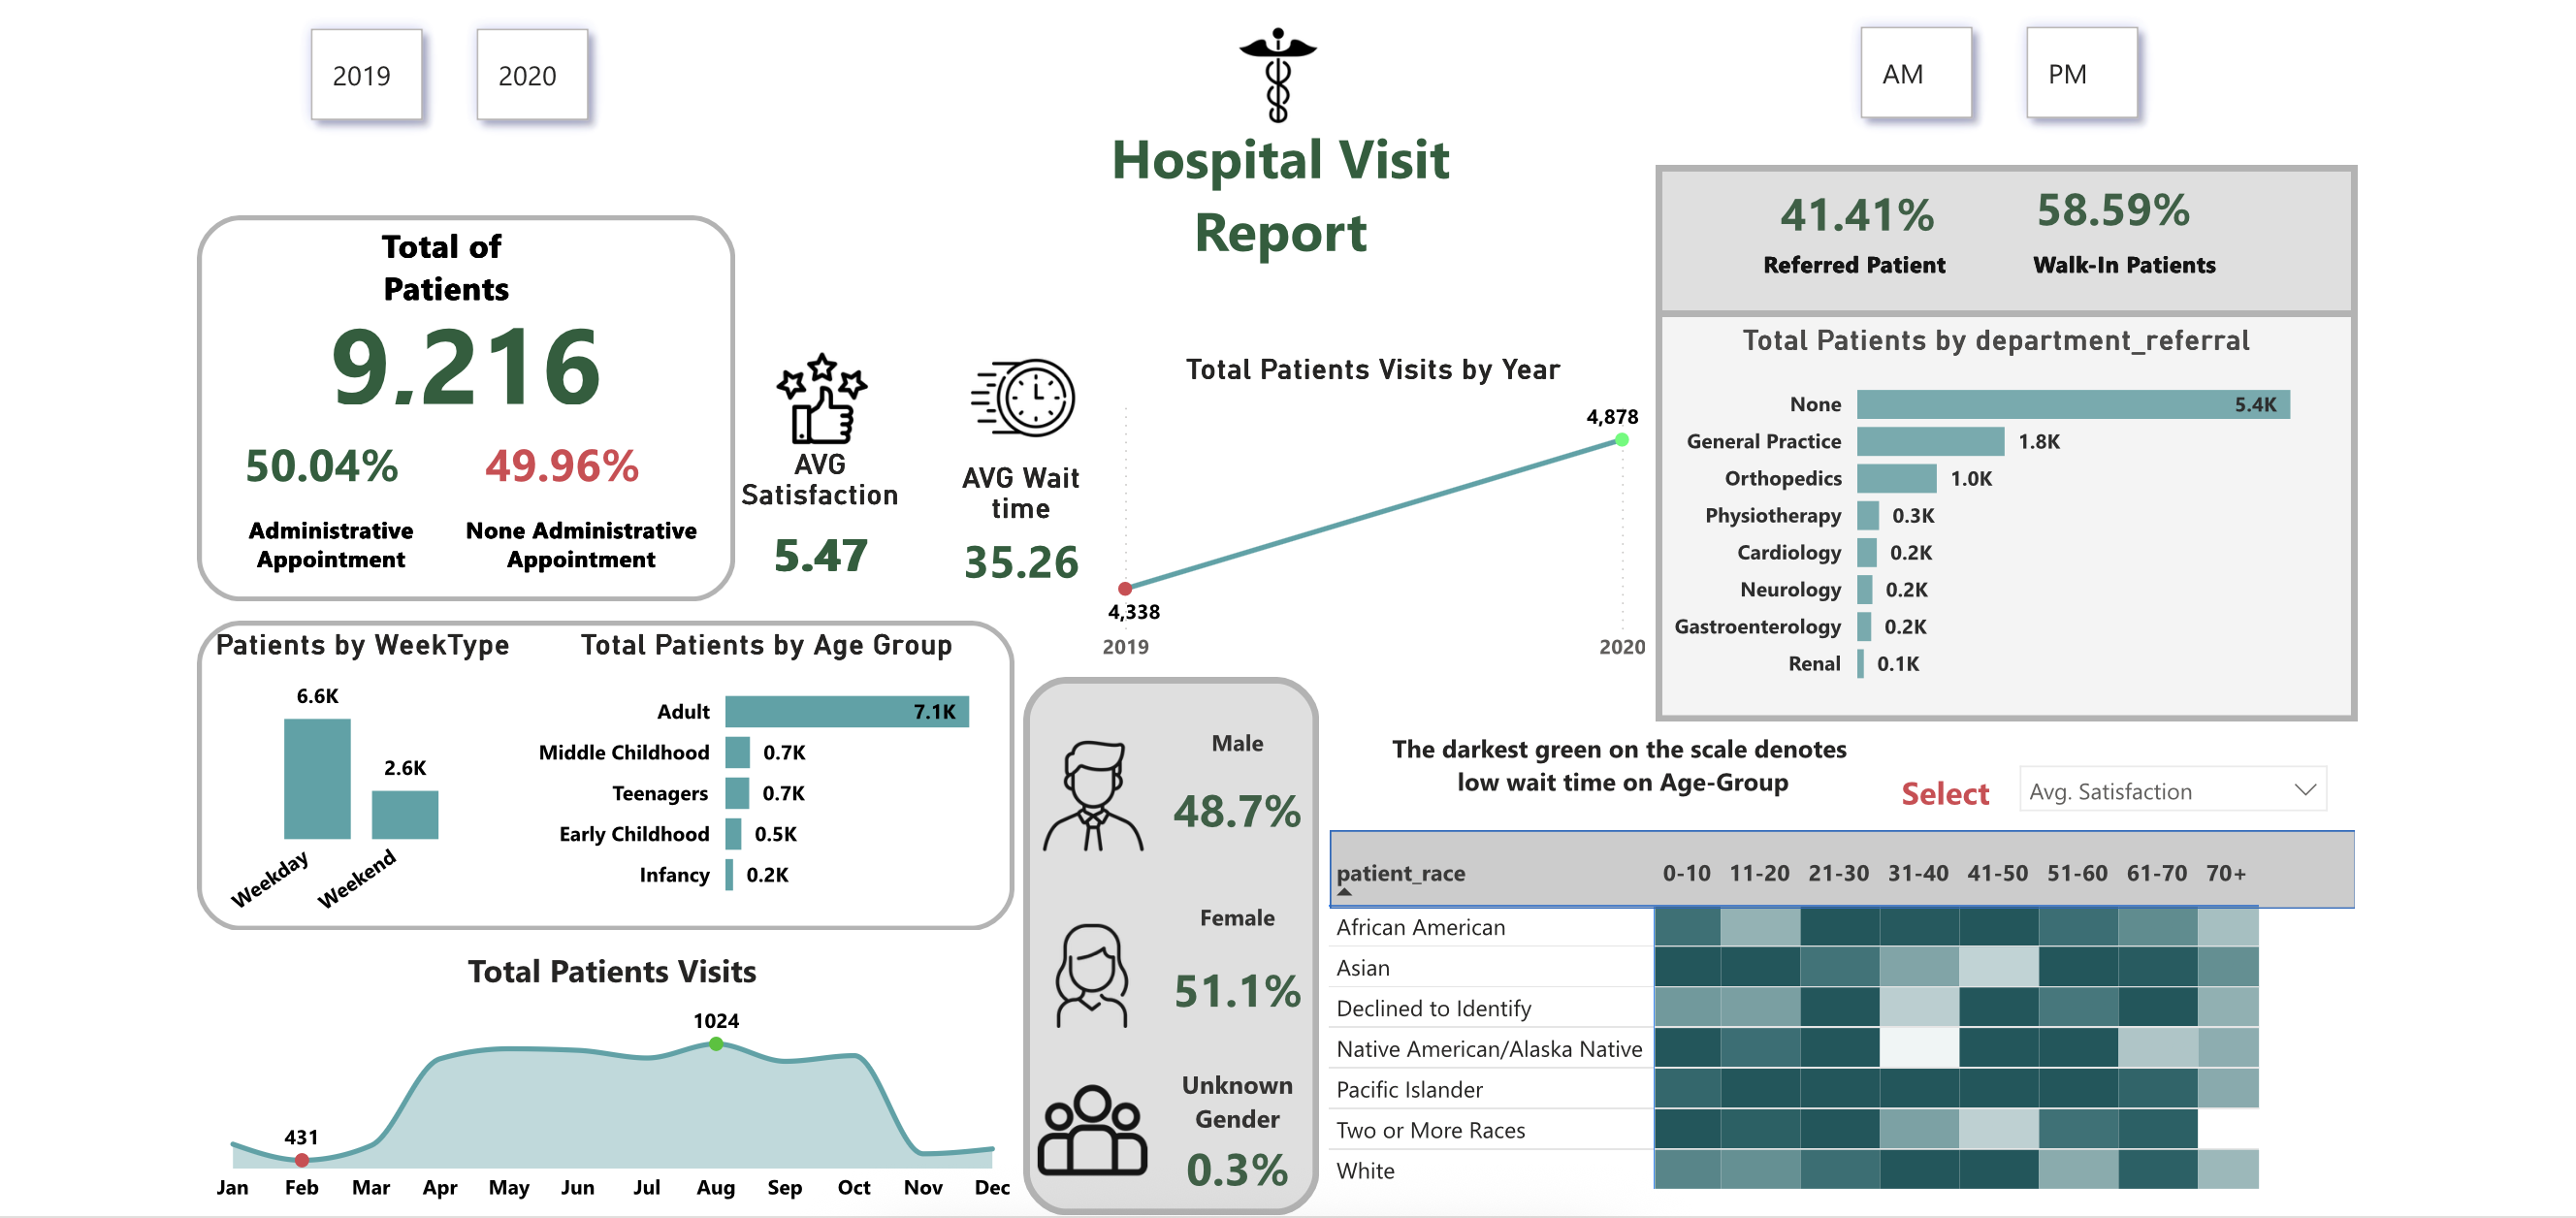

This screenshot's page, from the dashboard's own definition file:
{"tool":"powerbi","page":{"name":"Page 1","canvas":[1280,720],"ordinal":0},"visuals":[{"type":"card","fields":{"Values":["Calculation.Total Patients"]},"box":[0,179.7,318.1,65.2],"z":0},{"type":"card","fields":{"Values":["Calculation.% Adminstrative Schedule"]},"box":[0,248.1,147.9,57.3],"z":1000},{"type":"card","fields":{"Values":["Calculation.% None - Adminstrative Schedule"]},"box":[147.9,248.1,136.8,57.3],"z":2000},{"type":"pivotTable","fields":{"Values":["Calculation.Average Satisfaction Score"],"Rows":["Patients Dataset.patient_race"],"Columns":["Patients Dataset.Age Bucket"]},"box":[663.3,500,616.7,220],"z":3000},{"type":"slicer","fields":{"Values":["Parameter.Parameter"]},"box":[1067.3,443.8,202,57.3],"z":4000},{"type":"clusteredBarChart","fields":{"Category":["Patients Dataset.Age Group"],"Y":["Calculation.Total Patients"]},"box":[190,375,293.3,168.3],"z":5000},{"type":"lineChart","title":"Total Patients Visits","fields":{"Category":["Date.Month"],"Y":["Calculation.Total Patients","Calculation.VALUES Max Point (Month)"]},"box":[0,561.5,491.5,159.1],"z":6000},{"type":"lineChart","title":"Total Patients Visits by Year","fields":{"Y":["Calculation.Total Patients","Calculation.VALUES Max Point (year)"],"Category":["Date.Year"]},"box":[530,211.7,331.7,190],"z":7000},{"type":"clusteredBarChart","fields":{"Y":["Calculation.Total Patients"],"Category":["Patients Dataset.department_referral"]},"box":[861.7,195,403.3,221.7],"z":8000},{"type":"card","fields":{"Values":["Calculation.% Unreferred Patients"]},"box":[1060,88.3,145,73.3],"z":9000},{"type":"textbox","box":[0,300.6,159.1,58.9],"z":10000},{"type":"textbox","box":[147.9,300.6,159.1,58.9],"z":11000},{"type":"card","title":"AVG Satisfaction","fields":{"Values":["Calculation.Average Satisfaction Score"]},"box":[307,268.8,122.5,90.7],"z":12000},{"type":"card","title":"AVG Wait time","fields":{"Values":["Calculation.Average Wait Time"]},"box":[435.8,276.8,103.4,82.7],"z":13000},{"type":"card","fields":{"Values":["Calculation.% Referred Patients"]},"box":[906.7,90,150,75],"z":14000},{"type":"textbox","box":[1060,143.3,158.3,60],"z":15000},{"type":"textbox","box":[900,143.3,160,60],"z":16000},{"type":"clusteredColumnChart","title":" Patients by WeekType","fields":{"Y":["Calculation.Total Patients"],"Category":["Date.WeekType"]},"box":[0,375,196.7,181.7],"z":17000},{"type":"card","fields":{"Values":["Calculation.HeatMap Caption"]},"box":[676.7,413.3,333.3,78.3],"z":18000},{"type":"card","title":"Male","fields":{"Values":["Calculation.% Female Visit"]},"box":[555.1,431.1,120.9,84.3],"z":19000},{"type":"card","title":"Unknown Gender","fields":{"Values":["Calculation.% Unkown Gender"]},"box":[555.1,631.5,120.9,89.1],"z":20000},{"type":"card","title":"Female","fields":{"Values":["Calculation.% Male Visit"]},"box":[555.1,534.5,120.9,90.7],"z":21000},{"type":"textbox","box":[38.2,128.8,219.5,85.9],"z":22000},{"type":"image","box":[491.5,431.1,76.3,81.1],"z":23000},{"type":"image","box":[450.1,200.4,76.3,71.6],"z":24000},{"type":"image","box":[337.2,203.6,65.2,65.2],"z":25000},{"type":"textbox","box":[960.7,451.7,146.3,39.8],"z":26000},{"type":"shape","box":[670,491.7,606.7,46.7],"z":28000},{"type":"image","box":[488.3,631.5,82.7,74.8],"z":29000},{"type":"image","box":[483.6,542.4,90.7,71.6],"z":30000},{"type":"shape","box":[0,368.3,483.3,183.3],"z":31000},{"type":"shape","box":[488.3,401.7,175,318.3],"z":32000},{"type":"shape","box":[861.7,98.3,415,90],"z":33000},{"type":"shape","box":[861.7,185,415,243.3],"z":34000},{"type":"textbox","box":[481.7,66.7,318.3,98.3],"z":35000},{"type":"image","box":[563.3,11.7,153.3,68.3],"z":36000},{"type":"shape","box":[0,128.3,318.3,228.3],"z":37000},{"type":"advancedSlicerVisual","fields":{"Values":["Patients Dataset.Moment"]},"box":[966.7,0,198.3,88.3],"z":38000},{"type":"advancedSlicerVisual","fields":{"Values":["Date.Year"]},"box":[50,1.7,198.3,88.3],"z":38001}]}

Visuals, with their boxes on the page's 1280x720 design canvas (x1, y1, x2, y2). These are canvas units, not pixel positions in the 2576x1218 screenshot, which may show the page scaled, cropped or inside an application window:
card - Calculation.Total Patients: <box>0,180,318,245</box>
card - Calculation.% Adminstrative Schedule: <box>0,248,148,305</box>
card - Calculation.% None - Adminstrative Schedule: <box>148,248,285,305</box>
pivotTable - Calculation.Average Satisfaction Score x Patients Dataset.patient_race: <box>663,500,1280,720</box>
slicer - Parameter.Parameter: <box>1067,444,1269,501</box>
clusteredBarChart - Patients Dataset.Age Group x Calculation.Total Patients: <box>190,375,483,543</box>
"Total Patients Visits" lineChart: <box>0,562,492,721</box>
"Total Patients Visits by Year" lineChart: <box>530,212,862,402</box>
clusteredBarChart - Calculation.Total Patients x Patients Dataset.department_referral: <box>862,195,1265,417</box>
card - Calculation.% Unreferred Patients: <box>1060,88,1205,162</box>
textbox: <box>0,301,159,360</box>
textbox: <box>148,301,307,360</box>
"AVG Satisfaction" card: <box>307,269,430,360</box>
"AVG Wait time" card: <box>436,277,539,360</box>
card - Calculation.% Referred Patients: <box>907,90,1057,165</box>
textbox: <box>1060,143,1218,203</box>
textbox: <box>900,143,1060,203</box>
" Patients by WeekType" clusteredColumnChart: <box>0,375,197,557</box>
card - Calculation.HeatMap Caption: <box>677,413,1010,492</box>
"Male" card: <box>555,431,676,515</box>
"Unknown Gender" card: <box>555,632,676,721</box>
"Female" card: <box>555,534,676,625</box>
textbox: <box>38,129,258,215</box>
image: <box>492,431,568,512</box>
image: <box>450,200,526,272</box>
image: <box>337,204,402,269</box>
textbox: <box>961,452,1107,492</box>
shape: <box>670,492,1277,538</box>
image: <box>488,632,571,706</box>
image: <box>484,542,574,614</box>
shape: <box>0,368,483,552</box>
shape: <box>488,402,663,720</box>
shape: <box>862,98,1277,188</box>
shape: <box>862,185,1277,428</box>
textbox: <box>482,67,800,165</box>
image: <box>563,12,717,80</box>
shape: <box>0,128,318,357</box>
advancedSlicerVisual - Patients Dataset.Moment: <box>967,0,1165,88</box>
advancedSlicerVisual - Date.Year: <box>50,2,248,90</box>
